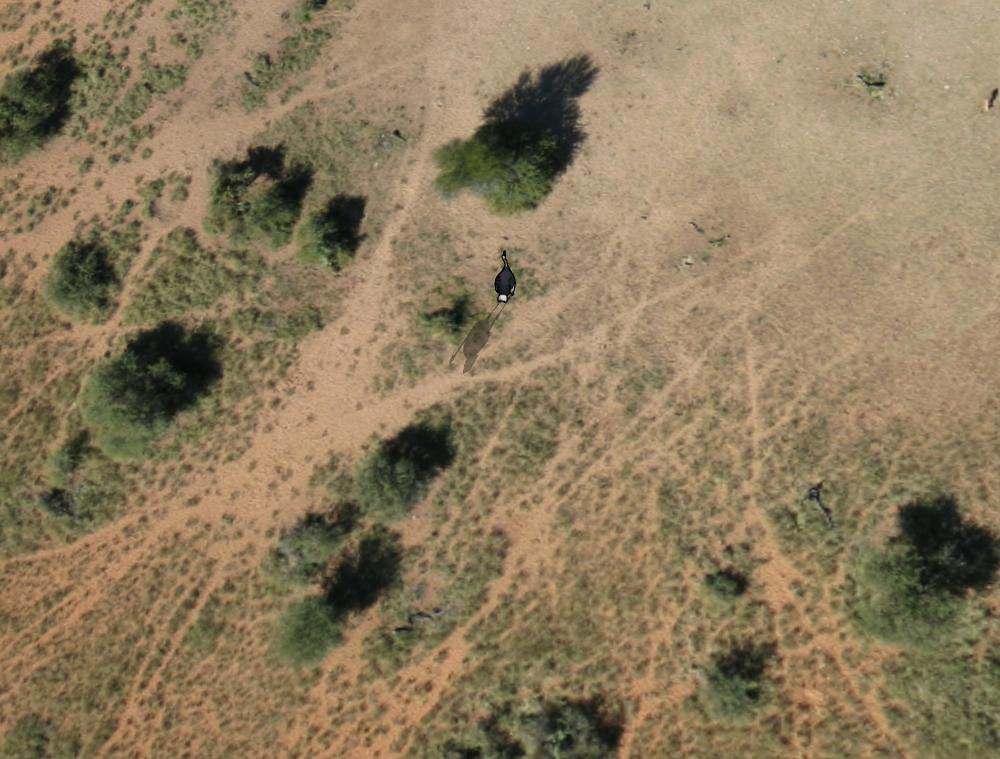ostrich: (485, 248, 521, 306)
